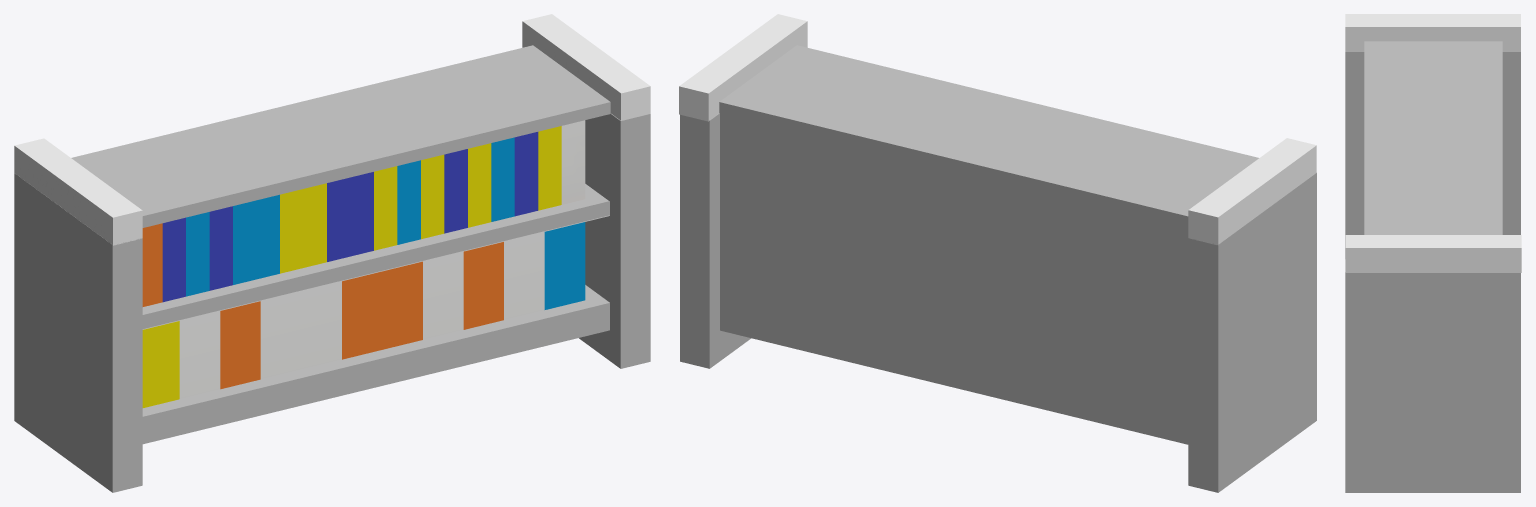
File: Libreria.obj
3 views of the same model, side by side, from view 1: azimuth 30°, elevation 25°; view 2: azimuth 150°, elevation 25°; view 3: azimuth 270°, elevation 25° (orthographic). The views are drawn at different scales.
Parts seen in each view (by area): view 1: polySurface13 polySurface11 group polySurface15 polySurface17, polySurface14 polySurface13 polySurface11 group, polySurface13 polySurface11 group polySurface16 polySurface15, pasted__pCube1 group3, pasted__pasted__pCube1 pasted__group3 group4, pCube1, pasted__pCube1 group1; view 2: polySurface13 polySurface11 group polySurface15 polySurface17, pasted__pCube1 group3, pasted__pasted__pCube1 pasted__group3 group4, pCube1, pasted__pCube1 group1; view 3: pasted__pasted__pCube1 pasted__group3 group4, polySurface13 polySurface11 group polySurface15 polySurface17, pasted__pCube1 group3, pasted__pCube1 group1, pCube1.
Boxes of the visible parts, box(x1,y1,x2,y2) form: polySurface13 polySurface11 group polySurface15 polySurface17: box(71, 45, 610, 444); polySurface14 polySurface13 polySurface11 group: box(142, 120, 585, 306); polySurface13 polySurface11 group polySurface16 polySurface15: box(142, 222, 585, 407); pasted__pCube1 group3: box(14, 173, 142, 492); pasted__pasted__pCube1 pasted__group3 group4: box(579, 113, 650, 368); pCube1: box(14, 138, 142, 245); pasted__pCube1 group1: box(522, 14, 650, 120); polySurface13 polySurface11 group polySurface15 polySurface17: box(719, 45, 1258, 444); pasted__pCube1 group3: box(1188, 173, 1316, 492); pasted__pasted__pCube1 pasted__group3 group4: box(680, 113, 750, 368); pCube1: box(1188, 138, 1316, 245); pasted__pCube1 group1: box(679, 14, 807, 121); pasted__pasted__pCube1 pasted__group3 group4: box(1345, 259, 1520, 492); polySurface13 polySurface11 group polySurface15 polySurface17: box(1364, 41, 1502, 234); pasted__pCube1 group3: box(1345, 52, 1520, 258); pasted__pCube1 group1: box(1345, 235, 1521, 272); pCube1: box(1345, 14, 1520, 51).
Bounding box in the file's own units: 3 × 1.47 × 0.9563.
